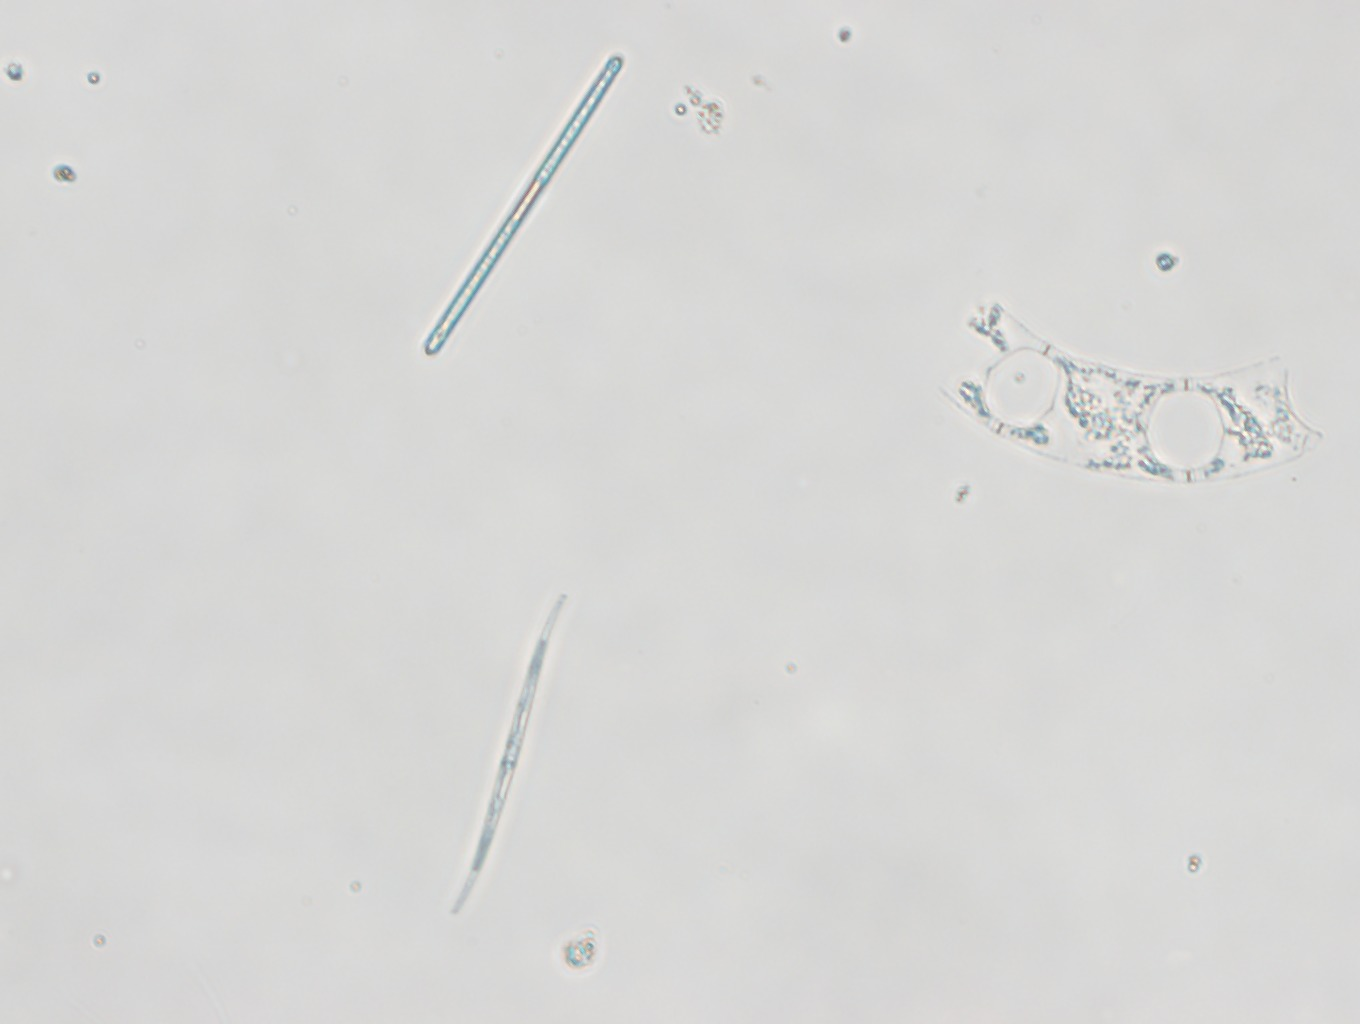eucampia: (937, 287, 1328, 490)
pleurosigma pelagicum: (445, 592, 577, 919)
